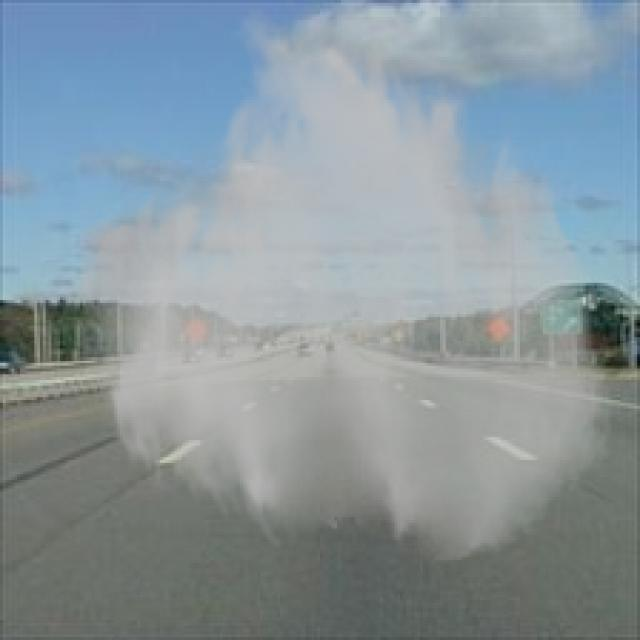smoke: (69, 6, 617, 566)
